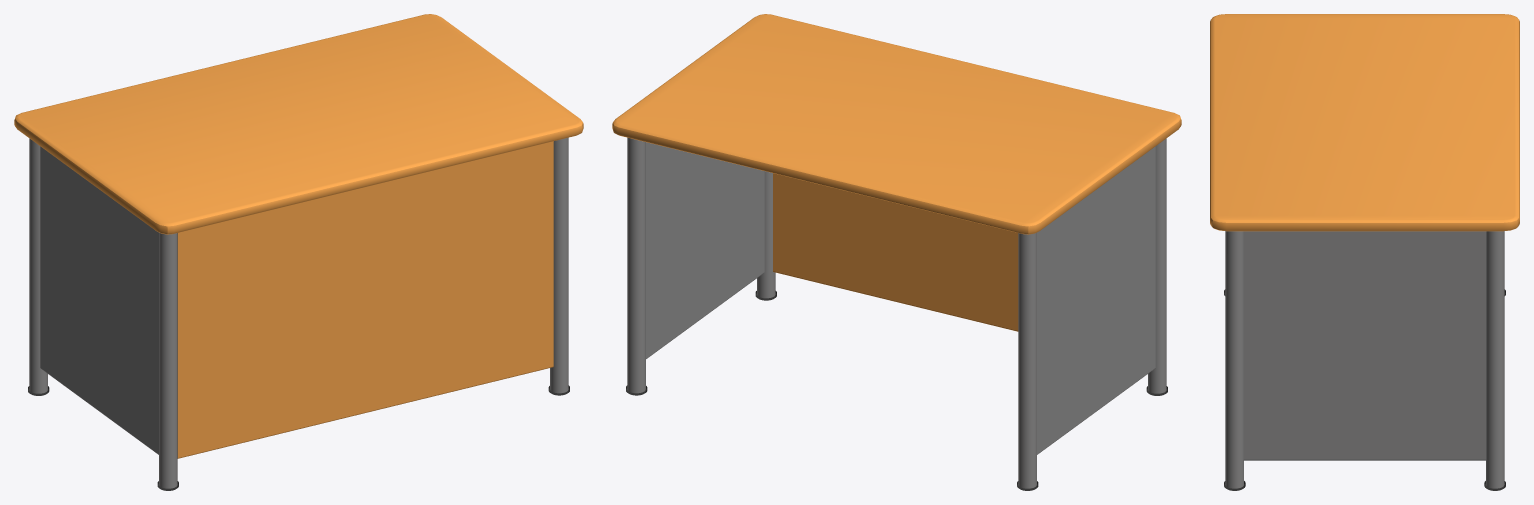
The model's file is teacher_desk.glb.
3 renders of one model, left to right at view 1: azimuth 30°, elevation 25°; view 2: azimuth 150°, elevation 25°; view 3: azimuth 270°, elevation 25°, orthographic.
Visible parts, largest first — view 1: Plane.006, Plane.004, Plane.007, Cylinder.002; view 2: Plane.004, Plane.007, Plane.006, Cylinder.002; view 3: Plane.004, Plane.007, Cylinder.002.
Boxes of the visible parts, x1,y1,x2,y2 form: Plane.006: [177, 141, 553, 458]; Plane.004: [14, 14, 583, 234]; Plane.007: [40, 146, 158, 454]; Cylinder.002: [29, 137, 568, 488]; Plane.004: [612, 14, 1181, 234]; Plane.007: [646, 142, 1155, 454]; Plane.006: [773, 173, 1018, 331]; Cylinder.002: [627, 137, 1166, 488]; Plane.004: [1210, 14, 1519, 231]; Plane.007: [1243, 231, 1486, 460]; Cylinder.002: [1225, 231, 1504, 488].
Bounding box in the file's own units: 4.45 × 2.73 × 2.79.
